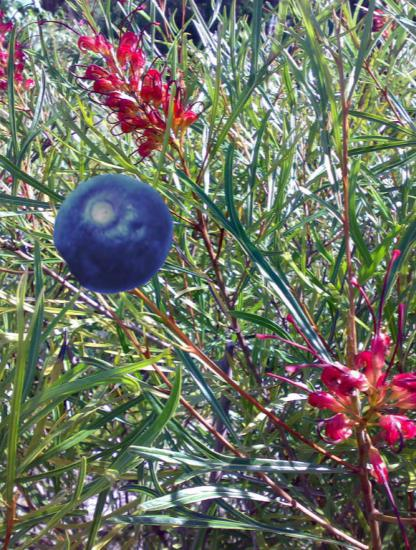Huckleberry: (54, 171, 177, 294)
